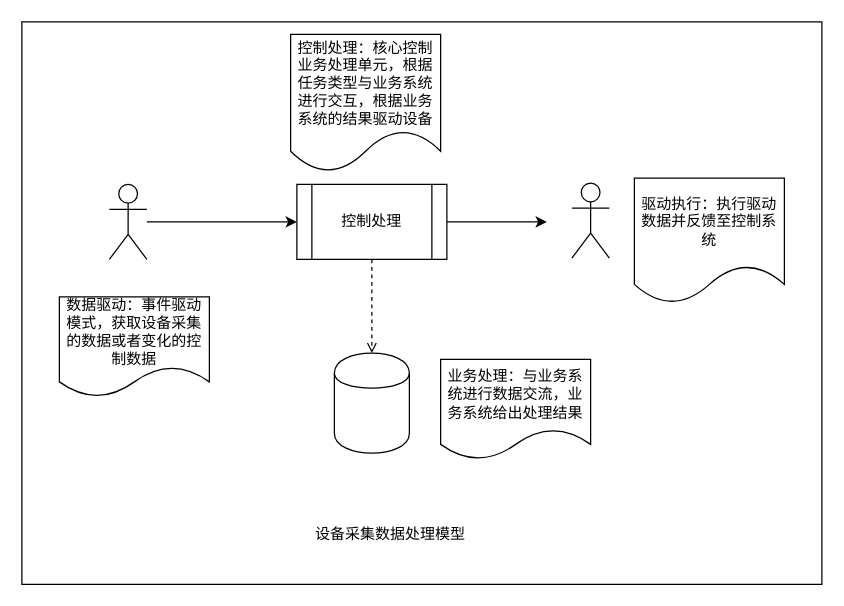
The diagram is 844 pixels wide and 606 high, and some of its shapes have lost their labels. Each missing label, with the box of its shape:
业务系统: (333, 352, 409, 453)
数据驱动: (108, 183, 147, 259)
驱动执行: (571, 182, 609, 258)
